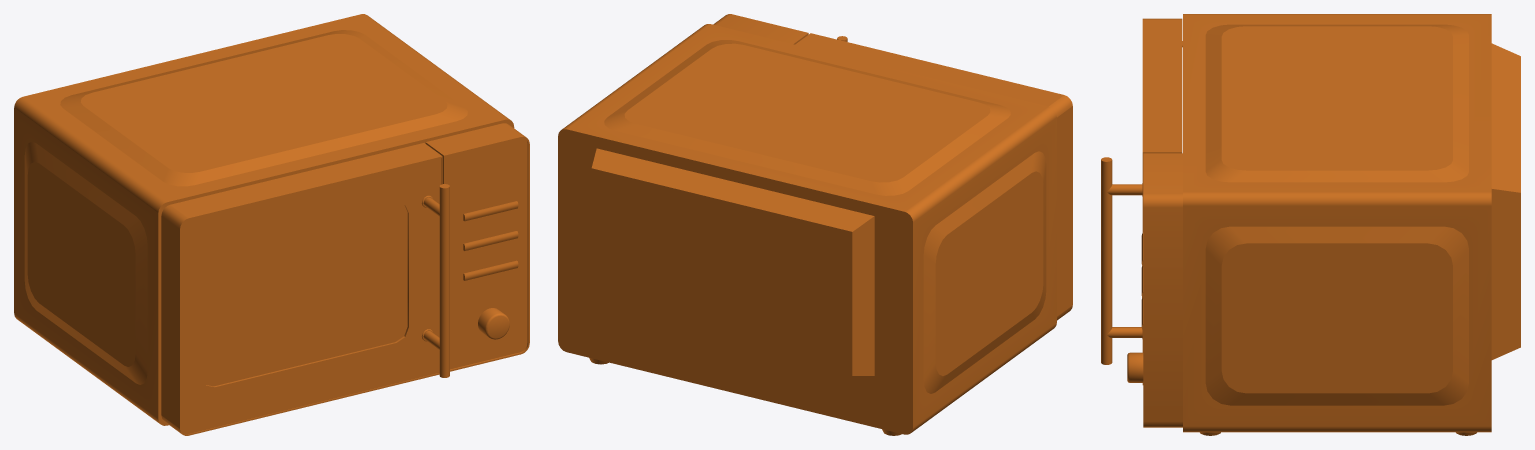
Rendered from Microwave.fbx.
The picture shows the model from 3 angles, left to right: view 1: azimuth 30°, elevation 25°; view 2: azimuth 150°, elevation 25°; view 3: azimuth 270°, elevation 25°; orthographic projection. The views are drawn at different scales.
Parts seen in each view (by area): view 1: Mocrowave_1; view 2: Mocrowave_1; view 3: Mocrowave_1.
Boxes of the visible parts, box(x1,y1,x2,y2) form: Mocrowave_1: box(14, 14, 529, 435); Mocrowave_1: box(558, 14, 1072, 435); Mocrowave_1: box(1101, 14, 1520, 435).
Bounding box in the file's own units: 51.28 × 32.1 × 47.71.
